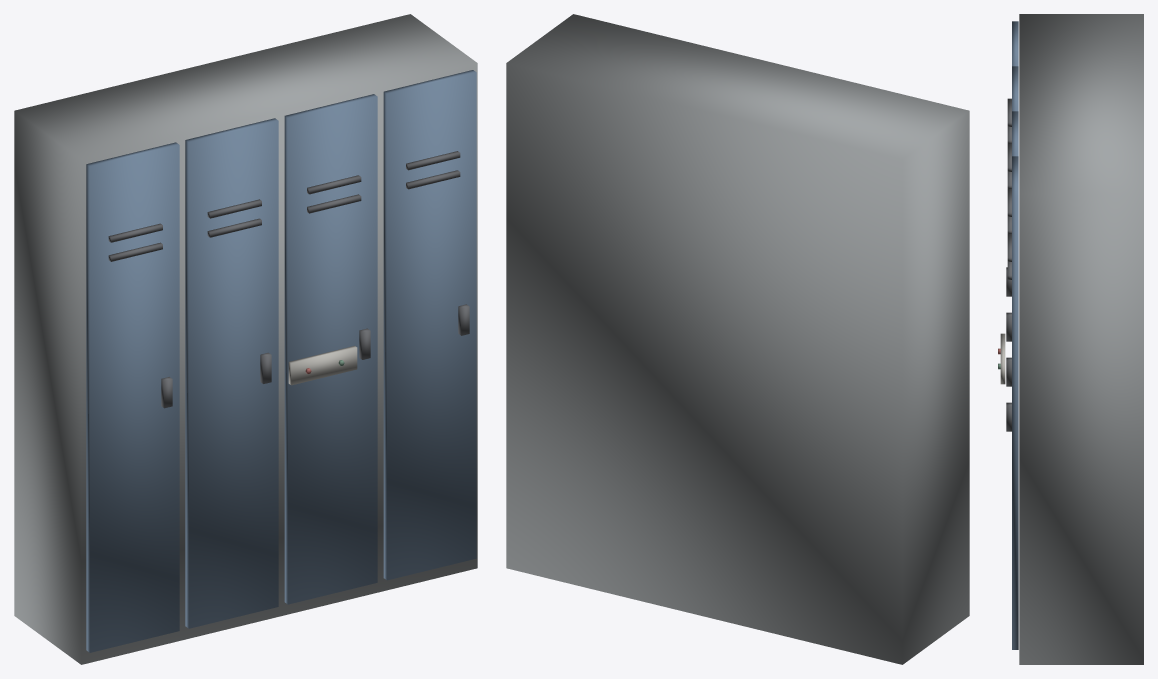
The model's file is locker_bank__compact.glb.
The picture shows the model from 3 angles, left to right: view 1: azimuth 30°, elevation 25°; view 2: azimuth 150°, elevation 25°; view 3: azimuth 270°, elevation 25°; orthographic projection. The views are drawn at different scales.
Visible parts, largest first — view 1: world; view 2: world; view 3: world.
Part boxes in pixels (bbox=[...]): world: bbox=[14, 14, 477, 664]; world: bbox=[506, 14, 969, 664]; world: bbox=[998, 14, 1143, 664].
Bounding box in the file's own units: 1.41 × 1.72 × 0.4825.
